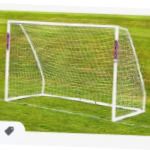goals: (3, 18, 147, 121)
